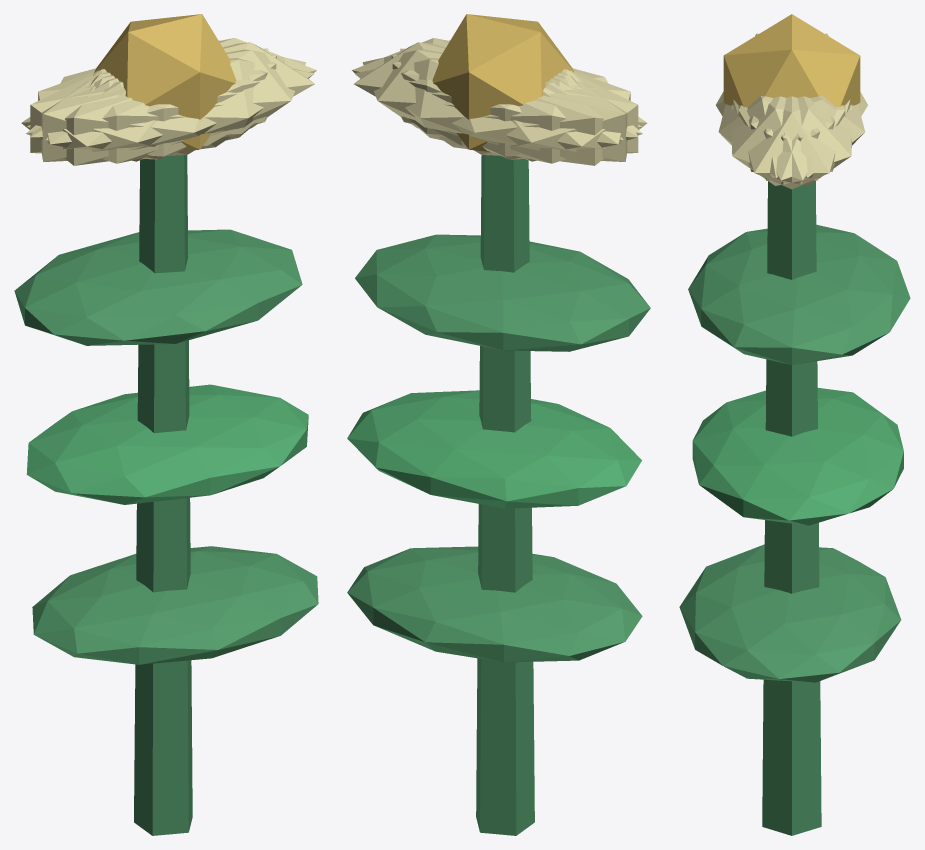
File: chamaecrista-nomame.glb
The picture shows the model from 3 angles, left to right: view 1: azimuth 30°, elevation 25°; view 2: azimuth 150°, elevation 25°; view 3: azimuth 270°, elevation 25°; orthographic projection.
Visible parts, largest first — view 1: stem, leaf0, leaf2, leaf1, center, petal1, petal6, petal2, petal5, petal7, petal0, petal4 (+2 smaller); view 2: stem, leaf2, leaf1, leaf0, center, petal8, petal3, petal7, petal4, petal2, petal0, petal5 (+2 smaller); view 3: leaf2, leaf0, leaf1, stem, center, petal0, petal4, petal5, petal8, petal1.
Part boxes in pixels (box(x1,y1,x2,y2)): stem: box(134, 155, 192, 835); leaf0: box(32, 546, 318, 664); leaf2: box(14, 229, 302, 345); leaf1: box(26, 384, 308, 504); center: box(94, 14, 236, 151); petal1: box(26, 58, 314, 163); petal6: box(21, 70, 230, 165); petal2: box(41, 48, 268, 161); petal5: box(45, 49, 306, 156); petal7: box(30, 54, 276, 159); petal0: box(94, 42, 314, 146); petal4: box(27, 38, 316, 137); stem: box(476, 155, 534, 835); leaf2: box(355, 234, 650, 351); leaf1: box(347, 390, 641, 508); leaf0: box(347, 546, 642, 662); center: box(432, 14, 574, 151); petal8: box(354, 58, 642, 163); petal3: box(438, 70, 647, 165); petal7: box(400, 48, 627, 161); petal4: box(362, 49, 623, 156); petal2: box(391, 54, 638, 159); petal0: box(354, 42, 574, 146); petal5: box(352, 38, 641, 137); leaf2: box(688, 224, 910, 364); leaf0: box(679, 544, 901, 682); leaf1: box(692, 388, 903, 525); stem: box(762, 181, 821, 835); center: box(723, 14, 860, 107); petal0: box(733, 96, 850, 189); petal4: box(738, 96, 852, 185); petal5: box(731, 96, 845, 185); petal8: box(748, 96, 864, 177); petal1: box(718, 96, 834, 177).
Size of the model in its own units: 0.1452 by 0.3913 by 0.1036.
